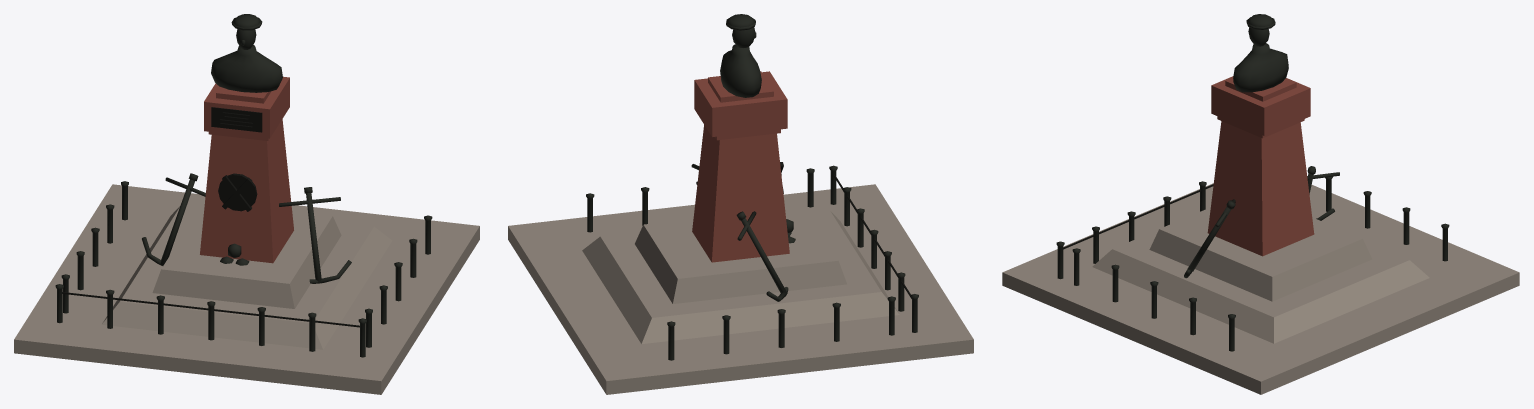
Rendered from koshka.glb.
The picture shows the model from 3 angles, left to right: view 1: azimuth 30°, elevation 25°; view 2: azimuth 150°, elevation 25°; view 3: azimuth 270°, elevation 25°; orthographic projection. The views are drawn at different scales.
Visible parts, largest first — view 1: koshka_stone, koshka_wall2, koshka_wall3, koshka_metal; view 2: koshka_stone, koshka_wall2, koshka_wall3; view 3: koshka_stone, koshka_wall2, koshka_wall3.
Part boxes in pixels (<box>): koshka_stone: <box>14,184,479,394</box>; koshka_wall2: <box>200,76,293,263</box>; koshka_wall3: <box>55,14,432,357</box>; koshka_metal: <box>62,107,359,327</box>; koshka_stone: <box>508,184,973,394</box>; koshka_wall2: <box>692,71,789,262</box>; koshka_wall3: <box>586,14,918,360</box>; koshka_stone: <box>1002,183,1519,394</box>; koshka_wall2: <box>1207,76,1314,256</box>; koshka_wall3: <box>1056,14,1449,351</box>.
Size of the model in its own units: 11.31 by 6.5 by 11.31.
